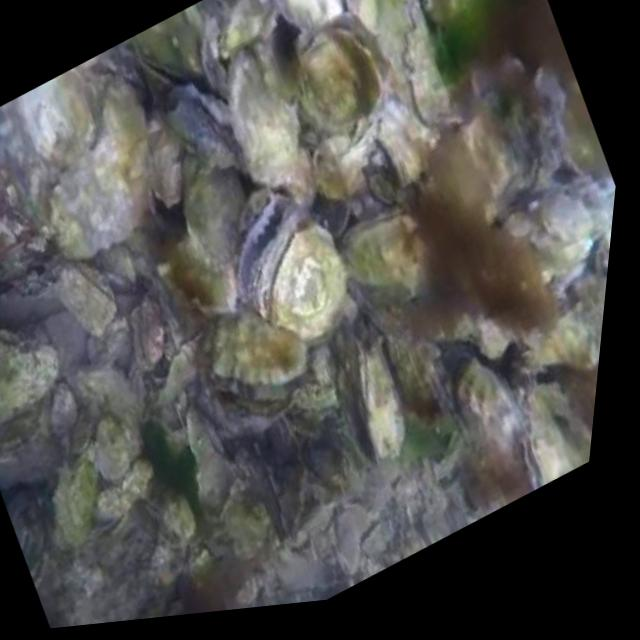Oyster-Indeterminate: (0, 73, 190, 293), (183, 264, 353, 433), (199, 38, 345, 217), (352, 277, 499, 452), (232, 198, 375, 355), (273, 11, 406, 154), (0, 53, 131, 190), (59, 328, 182, 465), (332, 185, 461, 313), (136, 54, 262, 182), (42, 234, 157, 360), (0, 300, 92, 442), (337, 339, 429, 475), (162, 157, 259, 272), (232, 0, 384, 72), (437, 343, 525, 459), (74, 444, 181, 538), (125, 470, 217, 576), (519, 292, 606, 393), (64, 399, 155, 495), (0, 474, 73, 586), (523, 171, 608, 267), (205, 478, 293, 570), (0, 103, 46, 261), (205, 0, 303, 69), (116, 298, 182, 378), (144, 338, 213, 414), (41, 465, 104, 542), (0, 425, 48, 489), (102, 592, 192, 623)
Oyster-Open: (487, 369, 594, 497), (105, 17, 214, 138)
